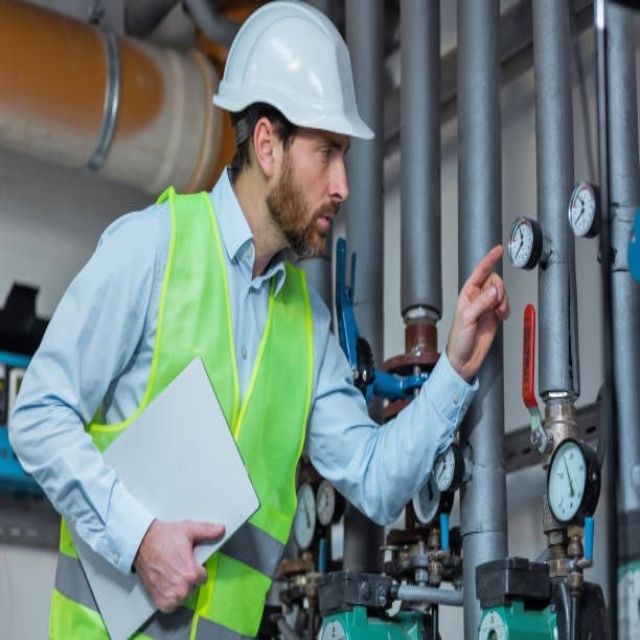Sin_gafas: (294, 136, 355, 169)
Sin_guantes: (135, 514, 230, 614), (447, 243, 510, 378)
Sin_mascara: (300, 199, 343, 251)
